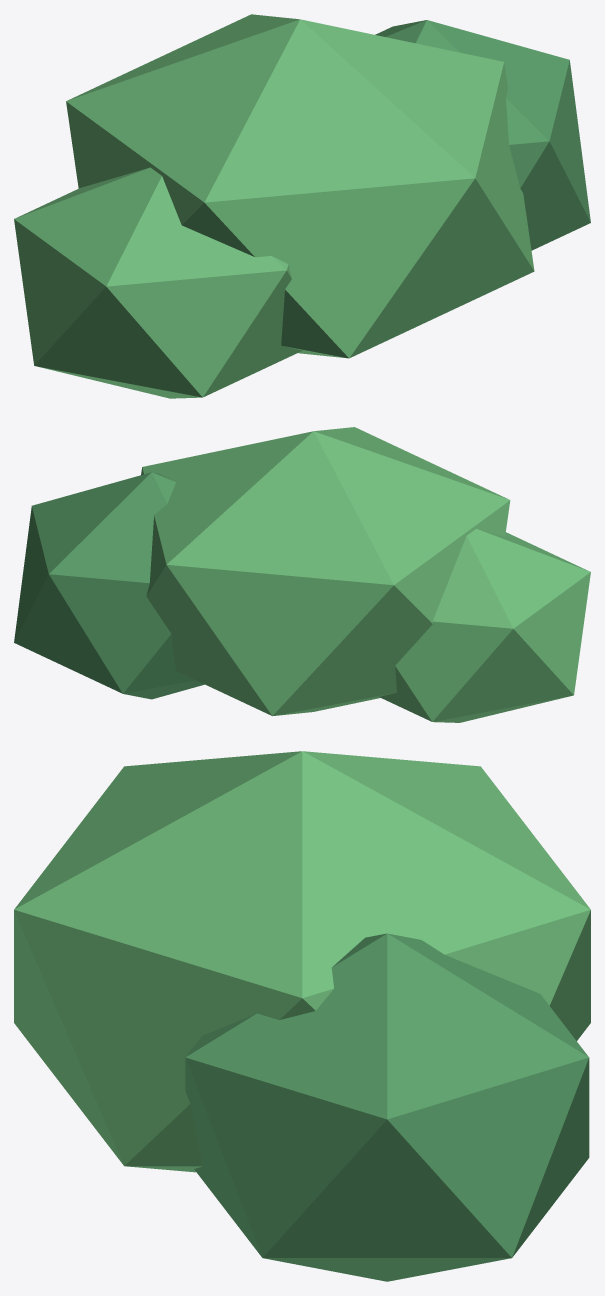
The model's file is bush.glb.
The picture shows the model from 3 angles, top to bottom: view 1: azimuth 30°, elevation 25°; view 2: azimuth 150°, elevation 25°; view 3: azimuth 270°, elevation 25°; orthographic projection. The views are drawn at different scales.
Visible parts, largest first — view 1: Bush; view 2: Bush; view 3: Bush.
Boxes of the visible parts, bbox=[...] form: Bush: bbox=[14, 14, 590, 398]; Bush: bbox=[14, 427, 590, 722]; Bush: bbox=[14, 751, 590, 1281].
Size of the model in its own units: 1.55 by 0.84 by 1.02.
